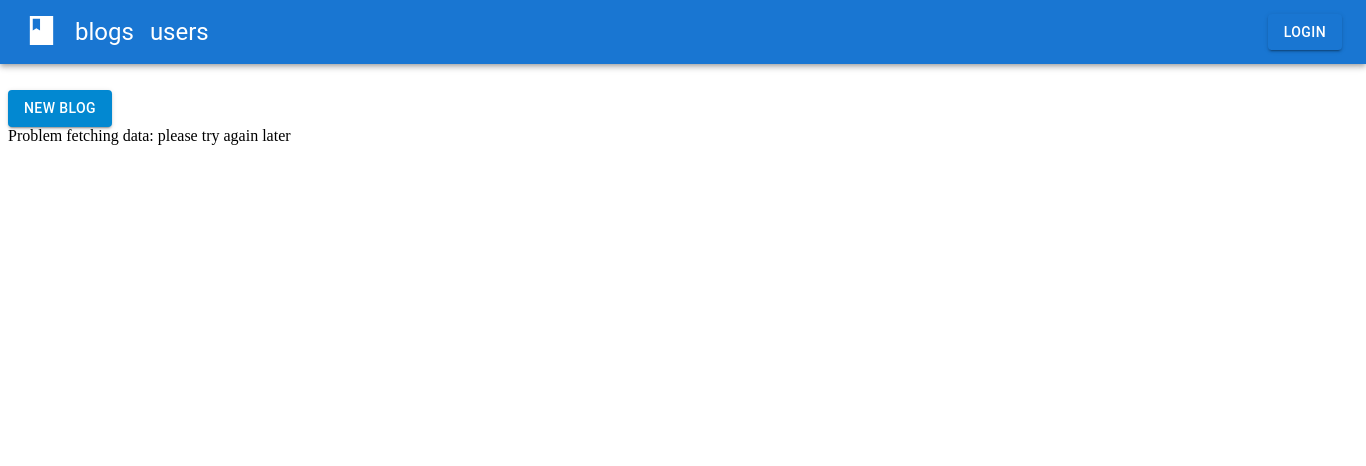
Test: Bloglist App › Login page › should display login form properly
Click the button with test id "login-button" at (1305, 33), box [1268,14,1342,51]
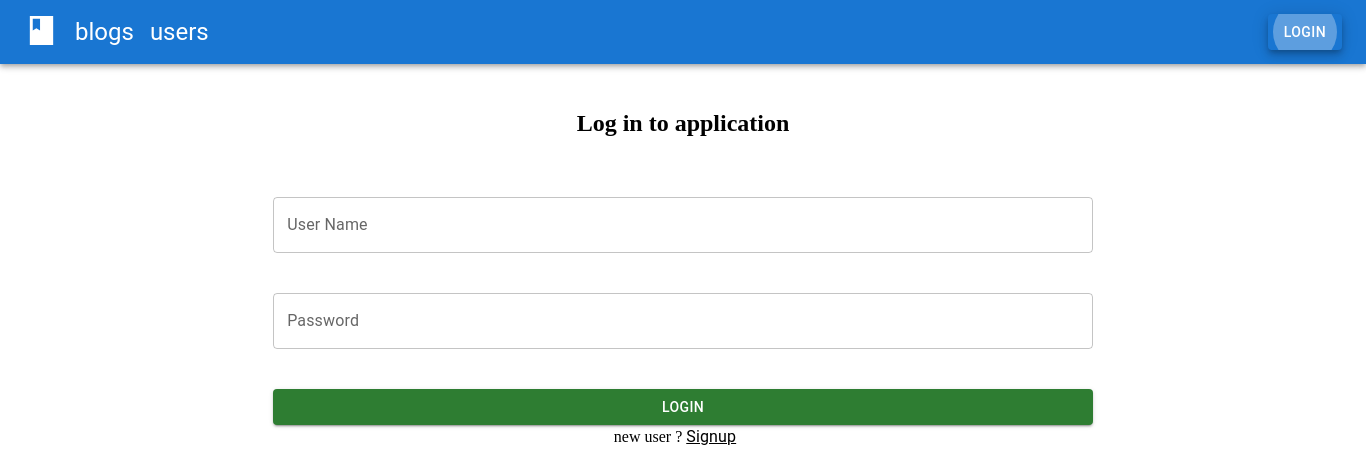
Expected: the heading "Log in to application" is shown, [577,110,789,136]
Expected: the form is shown, [273,90,1093,449]
Expected: the field named "Username" is shown, [273,197,1093,253]
